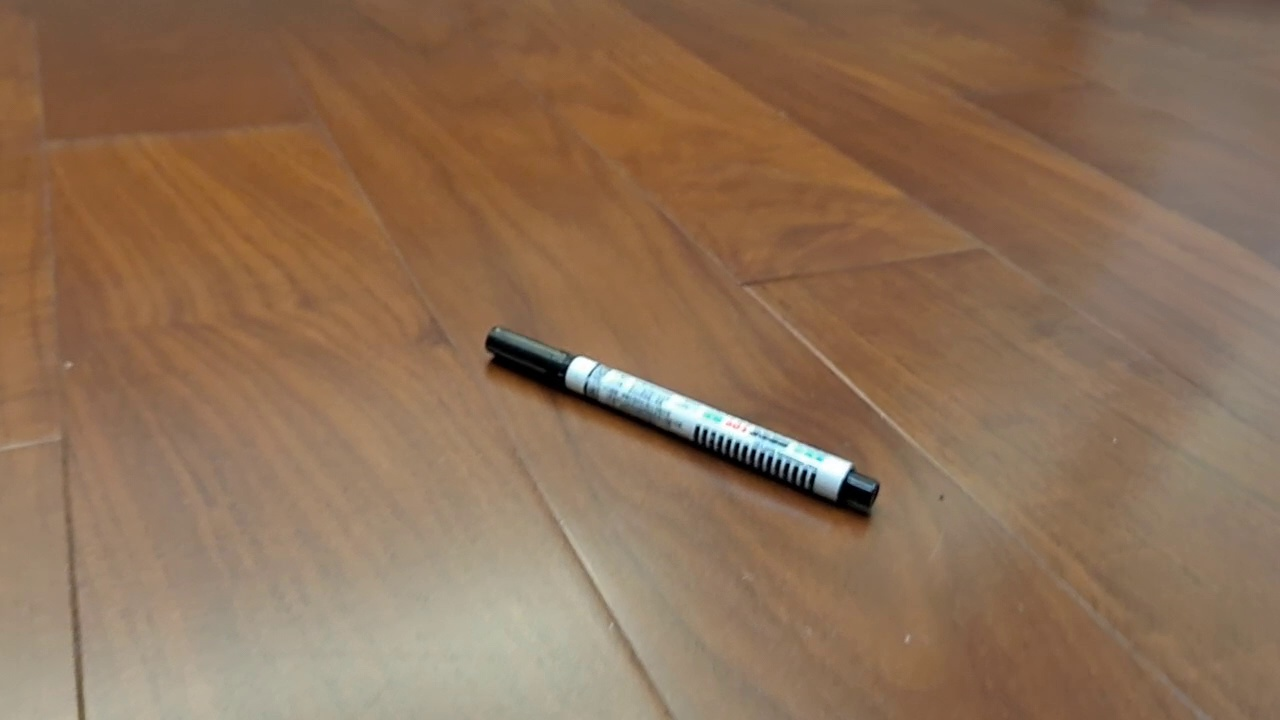pen: (484, 324, 881, 510)
